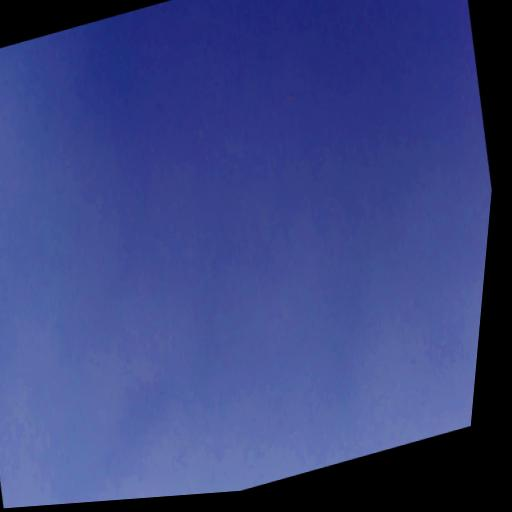drones: (287, 90, 297, 102)
